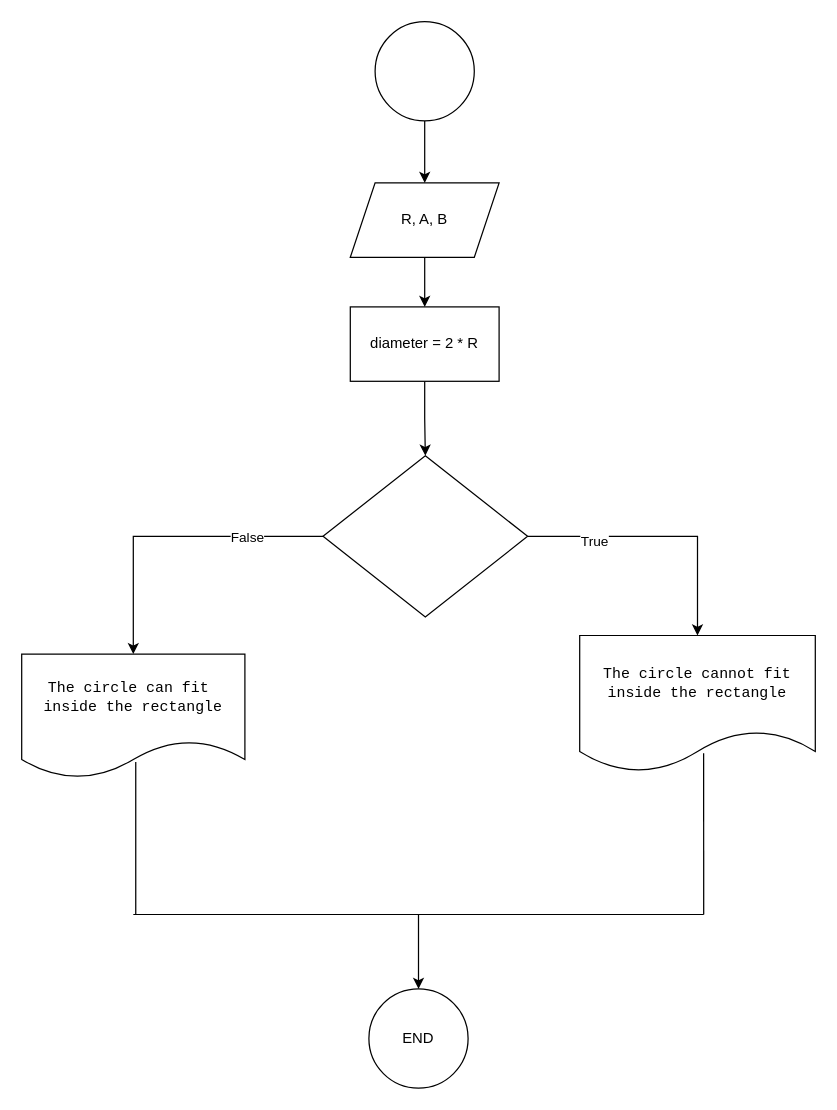
This 837x1110 diagram has some shape labels left out. The box of each missing label's shape, as (x1, y1, x2, y2) in pixels:
diameter >= A & diameter >= B: (322, 454, 528, 617)
START: (374, 20, 474, 121)
